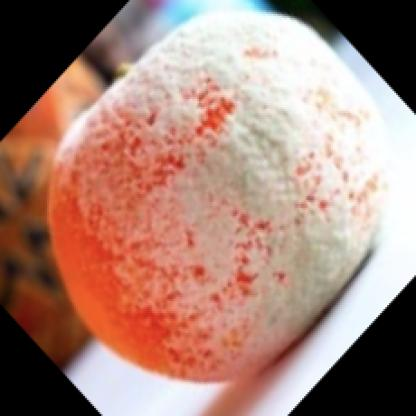rotten: (52, 16, 383, 384)
